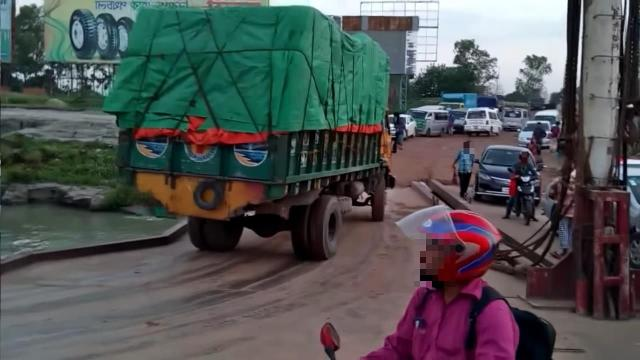car: (469, 141, 520, 208), (513, 118, 551, 145), (390, 113, 417, 137)
motorcycle: (506, 149, 542, 227)
truck: (116, 0, 393, 261)
van: (464, 106, 507, 136), (416, 108, 453, 131), (506, 106, 527, 126)
